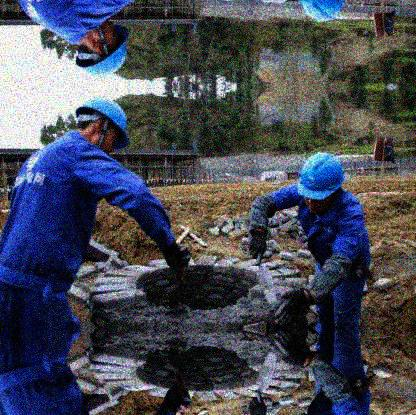helmet: (74, 15, 134, 75), (75, 96, 134, 156), (296, 151, 348, 215)
